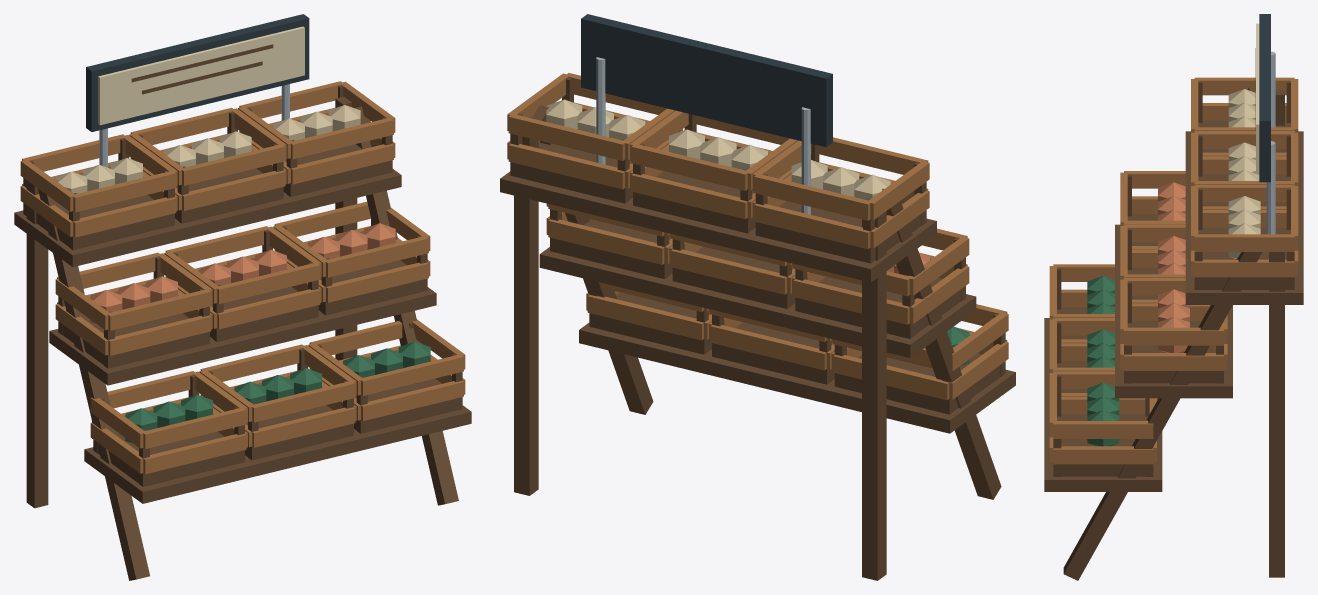
Rendered from b10_tiered_sidewalk_produce_stand.glb.
3 views of the same model, side by side, from view 1: azimuth 30°, elevation 25°; view 2: azimuth 150°, elevation 25°; view 3: azimuth 270°, elevation 25° (orthographic). The views are drawn at different scales.
Visible parts, largest first — view 1: b10_tiered_sidewalk_produce_stand; view 2: b10_tiered_sidewalk_produce_stand; view 3: b10_tiered_sidewalk_produce_stand.
Boxes of the visible parts, box(x1,y1,x2,y2) form: b10_tiered_sidewalk_produce_stand: box(14, 14, 471, 580); b10_tiered_sidewalk_produce_stand: box(500, 14, 1015, 580); b10_tiered_sidewalk_produce_stand: box(1044, 14, 1303, 580).
Bounding box in the file's own units: 1.3 × 1.63 × 0.88.
